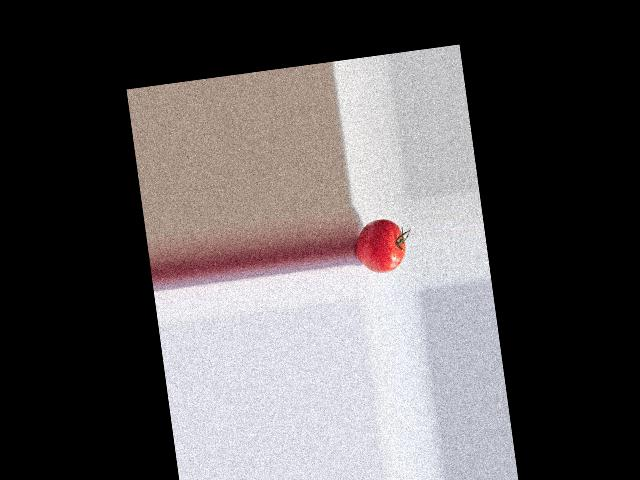tomato: (351, 217, 407, 276)
